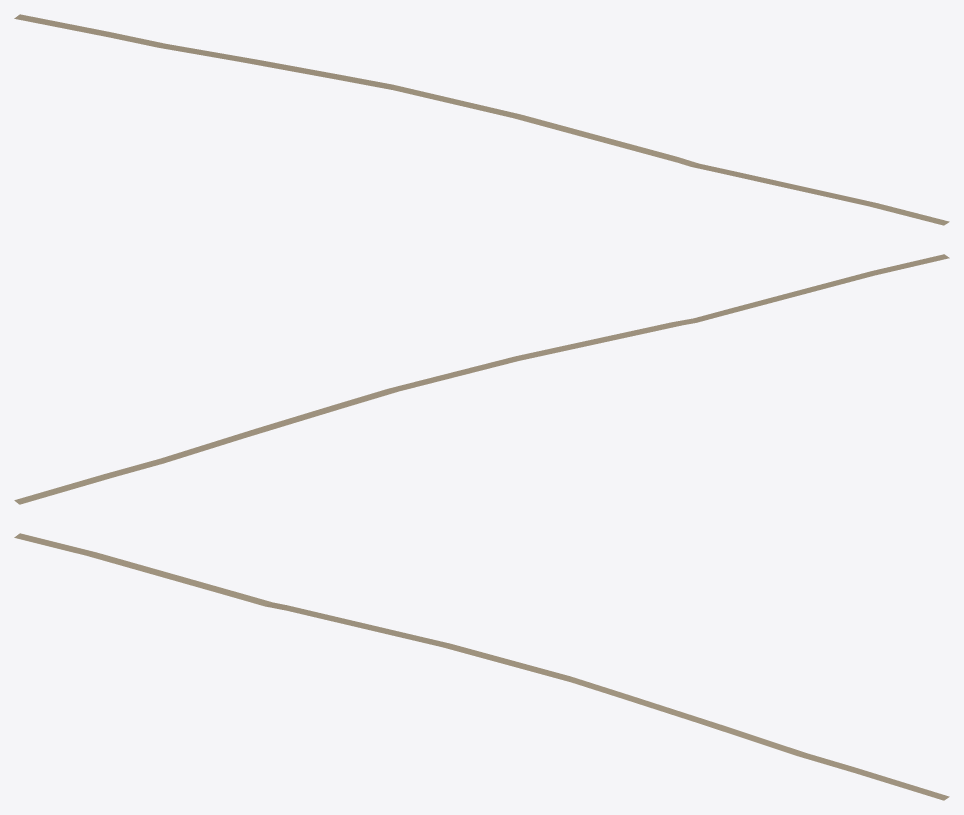
File: farm_11_13_track.glb
The picture shows the model from 3 angles, top to bottom: view 1: azimuth 90°, elevation 25°; view 2: azimuth 150°, elevation 25°; view 3: azimuth 270°, elevation 25°; orthographic projection.
Parts seen in each view (by area): view 1: geometry_0; view 2: geometry_0; view 3: geometry_0.
Part boxes in pixels (x1,y1,x2,y2): geometry_0: (14, 14, 949, 225); geometry_0: (14, 254, 949, 504); geometry_0: (14, 533, 949, 800).
Size of the model in its own units: 160 by 8.88 by 264.
